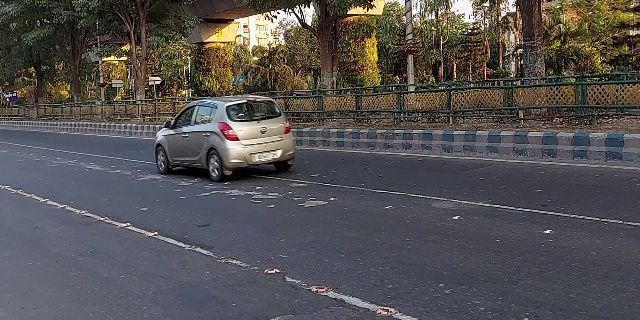Car: (147, 97, 299, 183)
